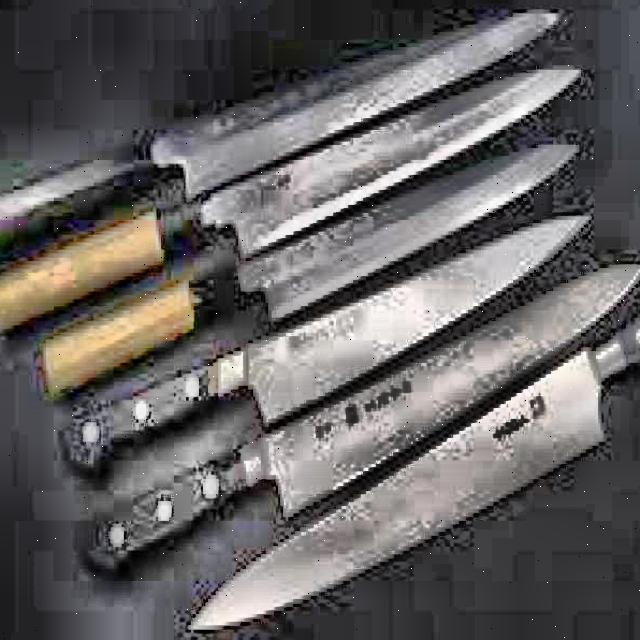knife: (78, 252, 640, 577), (188, 283, 640, 640), (0, 50, 586, 325), (39, 203, 595, 489), (0, 0, 564, 268), (38, 132, 589, 389)
